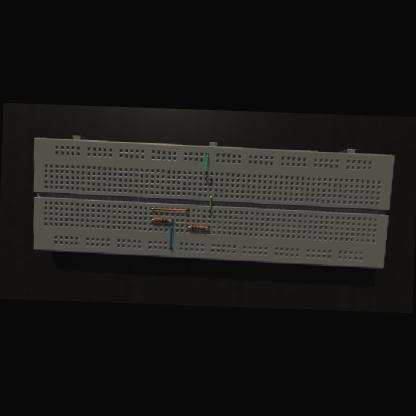breadboard: (30, 135, 394, 269)
resistor: (154, 218, 169, 223), (192, 226, 206, 230)
wire: (150, 208, 190, 211), (205, 154, 208, 176), (208, 196, 212, 212), (170, 225, 172, 250), (168, 220, 172, 221), (152, 219, 154, 221), (188, 226, 191, 227), (206, 228, 209, 229), (206, 180, 212, 180)
